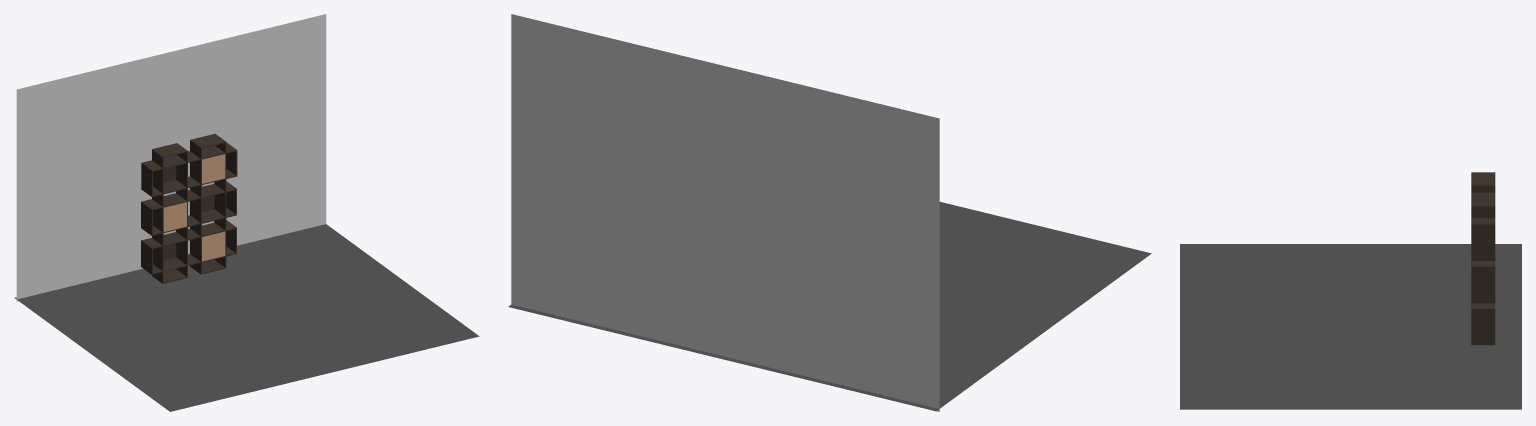
File: Library+Plaza.FBX
3 renders of one model, left to right at view 1: azimuth 30°, elevation 25°; view 2: azimuth 150°, elevation 25°; view 3: azimuth 270°, elevation 25°, orthographic. The views are drawn at different scales.
Visible parts, largest first — view 1: Wall, Floor, Library Frame00, Library Frame01, Library Frame02, Library Frame04, Library Frame03, Library Panel02, Library Panel01, Library Panel00; view 2: Wall, Floor; view 3: Floor, Library Frame01, Library Frame02, Library Frame03, Library Frame04, Library Frame00.
Part boxes in pixels (x1=…): Wall: x1=16, y1=14, x2=326, y2=301; Floor: x1=14, y1=224, x2=479, y2=411; Library Frame00: x1=152, y1=143, x2=187, y2=283; Library Frame01: x1=190, y1=133, x2=226, y2=274; Library Frame02: x1=141, y1=142, x2=237, y2=197; Library Frame04: x1=141, y1=220, x2=236, y2=274; Library Frame03: x1=141, y1=181, x2=236, y2=235; Library Panel02: x1=202, y1=154, x2=225, y2=183; Library Panel01: x1=163, y1=202, x2=186, y2=231; Library Panel00: x1=202, y1=231, x2=225, y2=261; Wall: x1=511, y1=14, x2=939, y2=411; Floor: x1=508, y1=202, x2=1151, y2=411; Floor: x1=1180, y1=244, x2=1521, y2=409; Library Frame01: x1=1471, y1=192, x2=1495, y2=345; Library Frame02: x1=1471, y1=218, x2=1495, y2=253; Library Frame03: x1=1471, y1=261, x2=1495, y2=295; Library Frame04: x1=1471, y1=303, x2=1495, y2=337; Library Frame00: x1=1471, y1=172, x2=1495, y2=192.
Size of the model in its own units: 4906 by 3213 by 4282.
